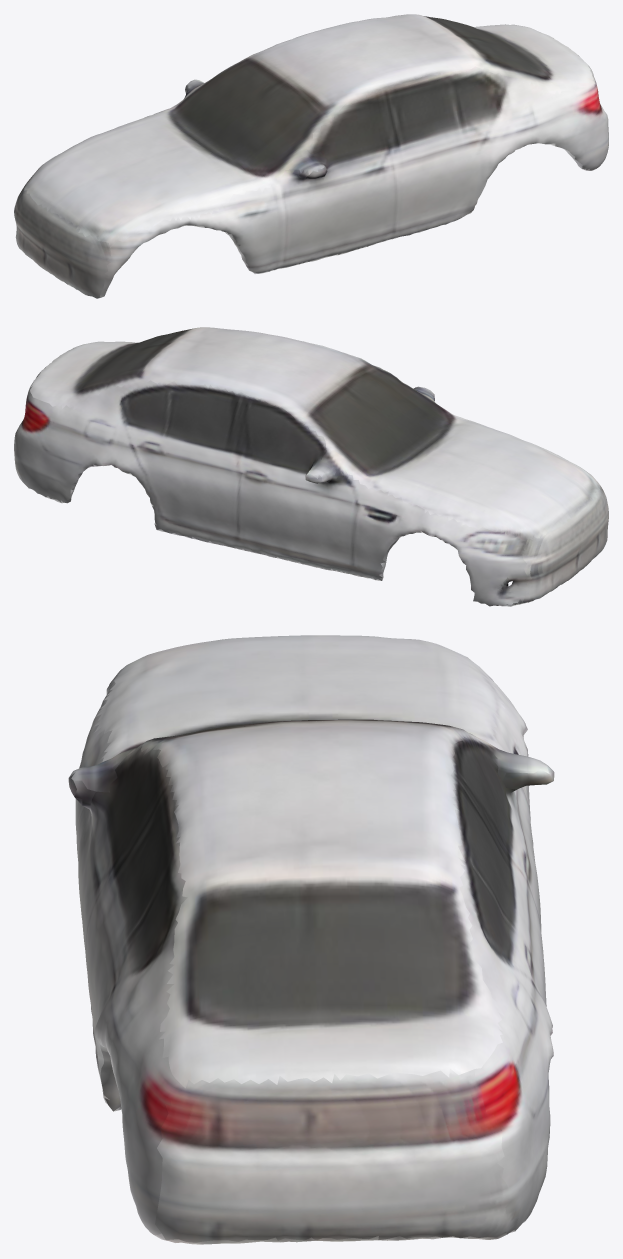
Rendered from body-generated-v5.glb.
The picture shows the model from 3 angles, top to bottom: view 1: azimuth 30°, elevation 25°; view 2: azimuth 150°, elevation 25°; view 3: azimuth 270°, elevation 25°; orthographic projection. The views are drawn at different scales.
Parts seen in each view (by area): view 1: world; view 2: world; view 3: world.
Boxes of the visible parts, bbox=[...] form: world: bbox=[14, 14, 608, 298]; world: bbox=[14, 327, 608, 606]; world: bbox=[68, 635, 554, 1244].
Bounding box in the file's own units: 0.9911 × 0.2639 × 0.3916.
1 material, 1 textured.
